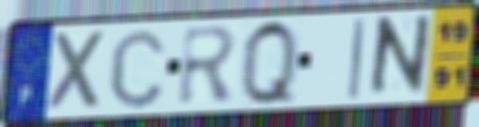C: (106, 26, 168, 112)
I: (346, 17, 368, 102)
N: (364, 11, 435, 103)
Q: (239, 16, 299, 109)
R: (176, 23, 240, 108)
X: (47, 28, 110, 115)
